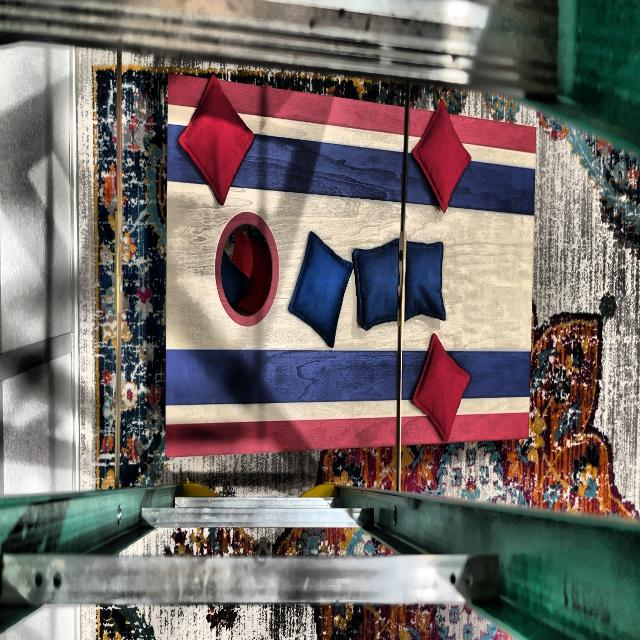blue-bean-bag: (287, 230, 354, 348), (354, 236, 411, 334), (401, 241, 447, 319)
blue-bean-bag-in-hole: (220, 249, 250, 310)
board: (168, 128, 528, 438)
hole: (215, 209, 280, 327)
red-bean-bag: (177, 74, 256, 208), (411, 100, 472, 213), (410, 334, 471, 443)
red-bean-bag-in-hole: (232, 230, 273, 313)
